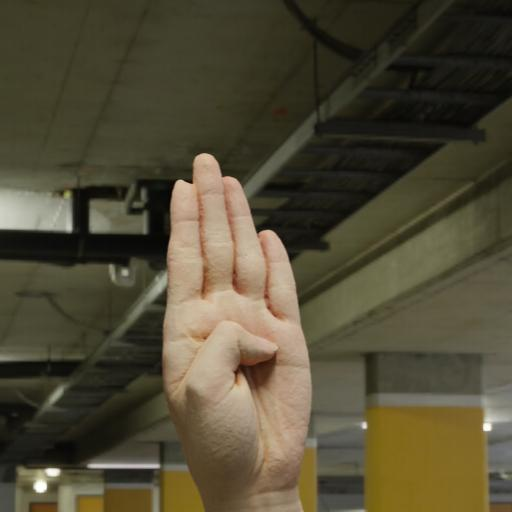B: (157, 147, 320, 483)
